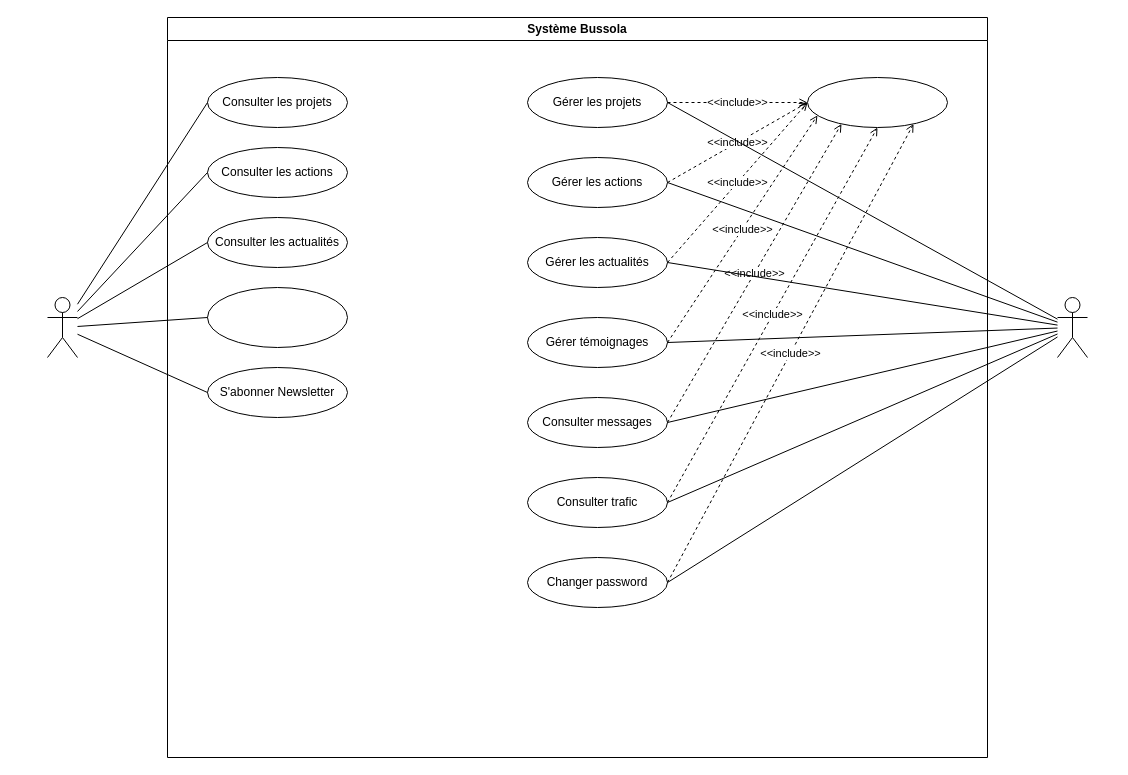
Image size: 1128x775. Some labels were removed from this diagram. Here are the shapes that lost their labels. From the top down, the centre of each, then its label:
At [877,102]: "S'authentifier".
At [62,327]: "Visiteur / Abonné".
At [277,317]: "Envoyer un message".
At [1072,327]: "Administrateur".
